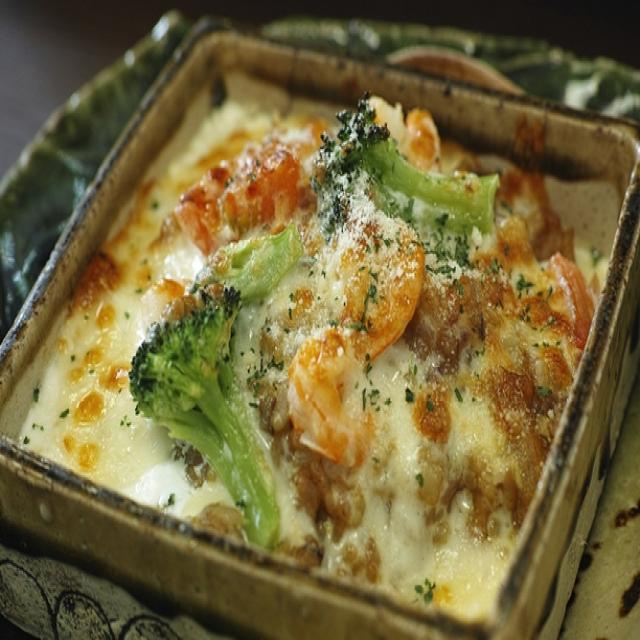米饭主食: (14, 35, 619, 618)
